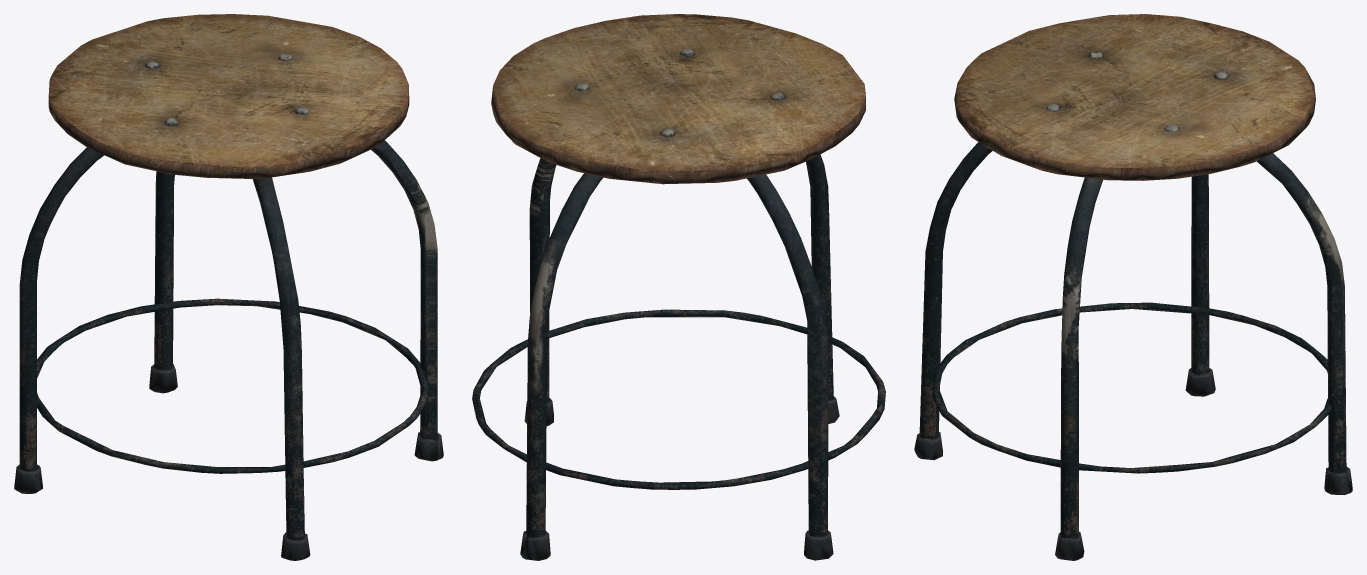
File: metal_stool_02.glb
3 renders of one model, left to right at view 1: azimuth 30°, elevation 25°; view 2: azimuth 150°, elevation 25°; view 3: azimuth 270°, elevation 25°, orthographic. The views are drawn at different scales.
Parts seen in each view (by area): view 1: metal_stool_02; view 2: metal_stool_02; view 3: metal_stool_02.
Part boxes in pixels (x1,y1,x2,y2): metal_stool_02: [14, 14, 443, 560]; metal_stool_02: [472, 14, 885, 560]; metal_stool_02: [914, 14, 1352, 560].
Bounding box in the file's own units: 0.4481 × 0.4579 × 0.4722.
1 material, 1 textured.
